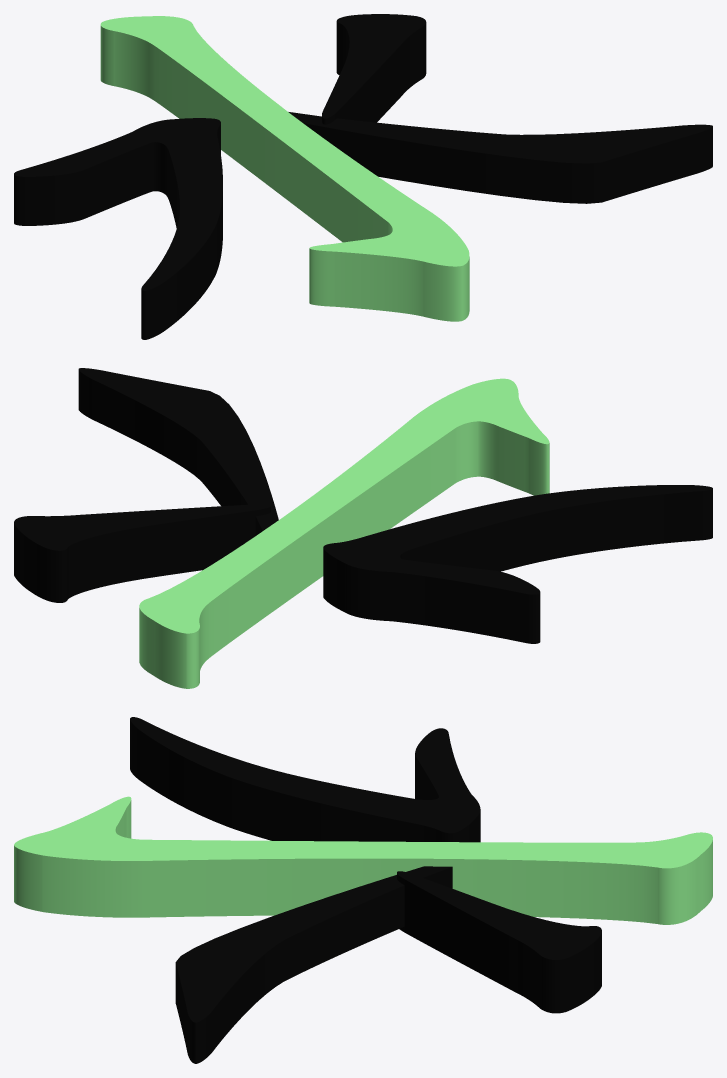
Rendered from hanzi180.fbx.
3 renders of one model, top to bottom at view 1: azimuth 30°, elevation 25°; view 2: azimuth 150°, elevation 25°; view 3: azimuth 270°, elevation 25°, orthographic. The views are drawn at different scales.
Visible parts, largest first — view 1: Curve, Curve.003, Curve.001, Curve.002; view 2: Curve, Curve.001, Curve.002, Curve.003; view 3: Curve, Curve.001, Curve.003, Curve.002.
Boxes of the visible parts, x1,y1,x2,y2 form: Curve: (100, 16, 469, 321); Curve.003: (288, 112, 712, 203); Curve.001: (14, 118, 222, 339); Curve.002: (322, 14, 426, 124); Curve: (139, 378, 549, 688); Curve.001: (323, 485, 712, 643); Curve.002: (14, 504, 270, 602); Curve.003: (78, 368, 278, 535); Curve: (14, 796, 712, 924); Curve.001: (130, 717, 480, 842); Curve.003: (175, 866, 452, 1063); Curve.002: (397, 871, 601, 1013).
Bounding box in the file's own units: 25.12 × 24.64 × 2.2.
